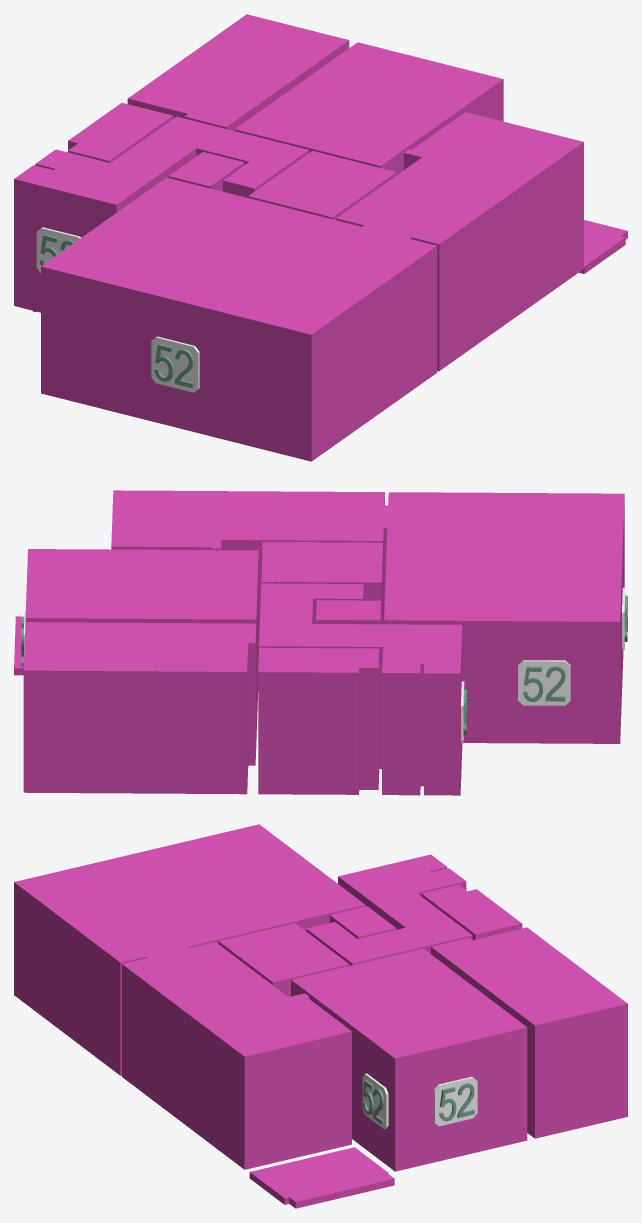
3 views of the same model, one above another, from view 1: azimuth 30°, elevation 25°; view 2: azimuth 150°, elevation 25°; view 3: azimuth 270°, elevation 25° (orthographic). The views are drawn at different scales.
Parts seen in each view (by area): view 1: g_7, g_6, g_0, g_3, g_1, g_4, g_2, g_11, g_5, g_8, g_23; view 2: g_7, g_1, g_3, g_2, g_0, g_6, g_4, g_14, g_5, g_8; view 3: g_7, g_6, g_0, g_1, g_3, g_8, g_4, g_2, g_17, g_5, g_20.
Part boxes in pixels (x1,y1,x2,y2): g_7: (41,177,437,461); g_6: (336,112,583,371); g_0: (234,42,503,174); g_3: (14,116,308,312); g_1: (127,14,349,130); g_4: (248,151,396,219); g_2: (68,103,173,162); g_11: (151,336,199,392); g_5: (168,152,244,191); g_8: (579,220,627,273); g_23: (36,227,80,272); g_7: (384,492,624,743); g_1: (23,622,256,794); g_3: (259,583,462,795); g_2: (258,647,379,794); g_0: (25,549,258,739); g_6: (111,490,386,645); g_4: (261,542,383,624); g_14: (518,660,570,705); g_5: (316,600,380,624); g_8: (14,616,23,675); g_7: (14,824,365,1075); g_6: (122,942,351,1169); g_0: (291,948,527,1171); g_1: (431,927,627,1138); g_3: (306,854,472,965); g_8: (249,1147,394,1208); g_4: (218,923,349,996); g_2: (421,885,522,939); g_17: (433,1076,477,1126); g_5: (329,906,396,938); g_20: (362,1073,388,1128).
Size of the model in its own units: 12.9 by 2.74 by 12.67.
